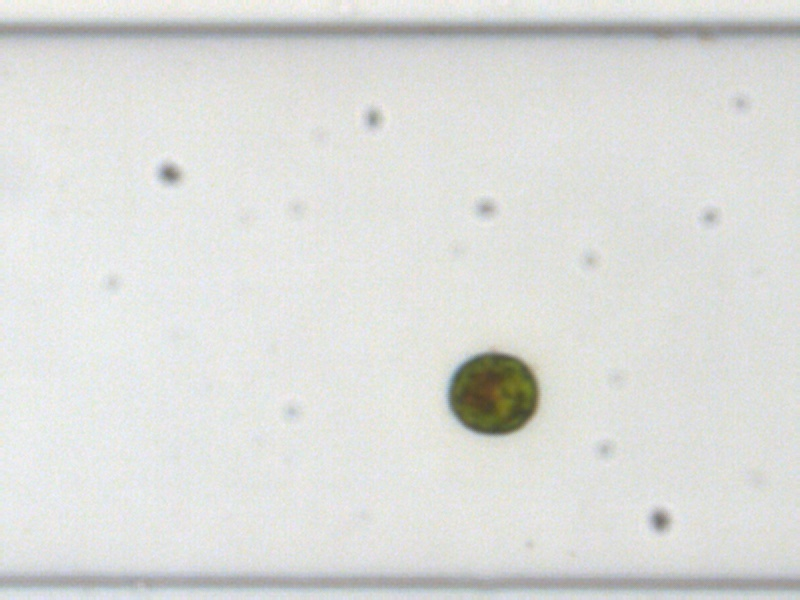Haematococcus: (442, 346, 542, 436)
